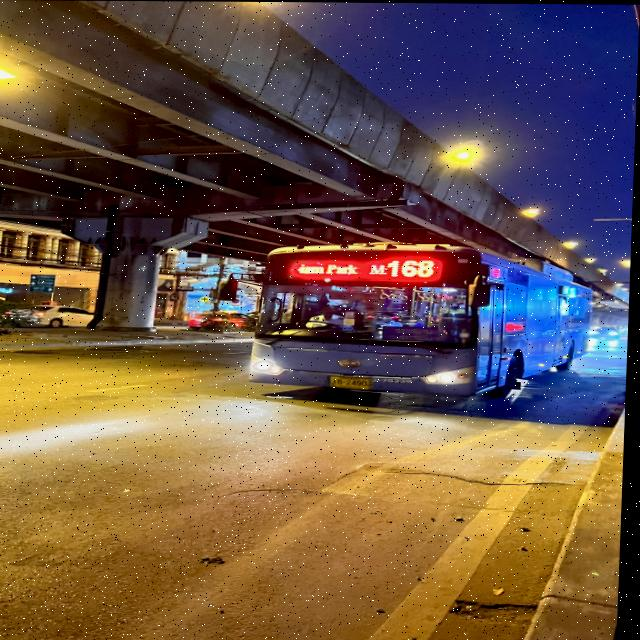BMTA-bus: (245, 237, 598, 401)
Bus Line Number: (390, 258, 437, 278)
Bus Side Number: (374, 375, 417, 384)
Destination Sign: (385, 326, 442, 340)
